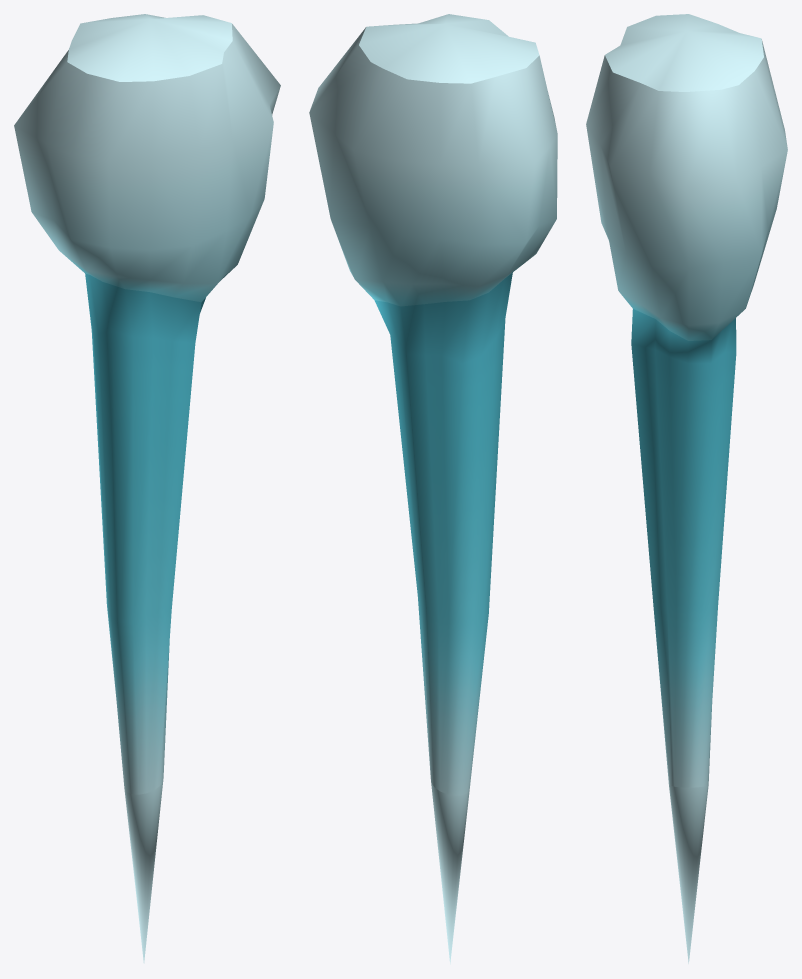
The model's file is Prop_Icicle_B.fbx.
The picture shows the model from 3 angles, left to right: view 1: azimuth 30°, elevation 25°; view 2: azimuth 150°, elevation 25°; view 3: azimuth 270°, elevation 25°; orthographic projection.
Parts seen in each view (by area): view 1: Prop_Icicle_B; view 2: Prop_Icicle_B; view 3: Prop_Icicle_B.
Boxes of the visible parts, box(x1,y1,x2,y2) form: Prop_Icicle_B: box(14, 14, 280, 963); Prop_Icicle_B: box(309, 14, 557, 964); Prop_Icicle_B: box(586, 14, 787, 963).
Bounding box in the file's own units: 25.55 × 95.3 × 18.6.
Materials: 1 (1 with a texture image).
